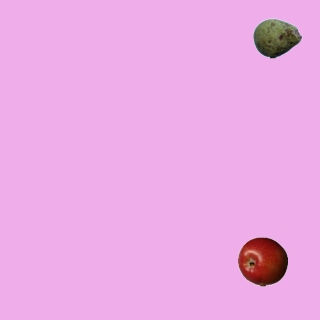Apple Braeburn: (237, 236, 287, 286)
Pear Stone: (252, 13, 302, 63)
